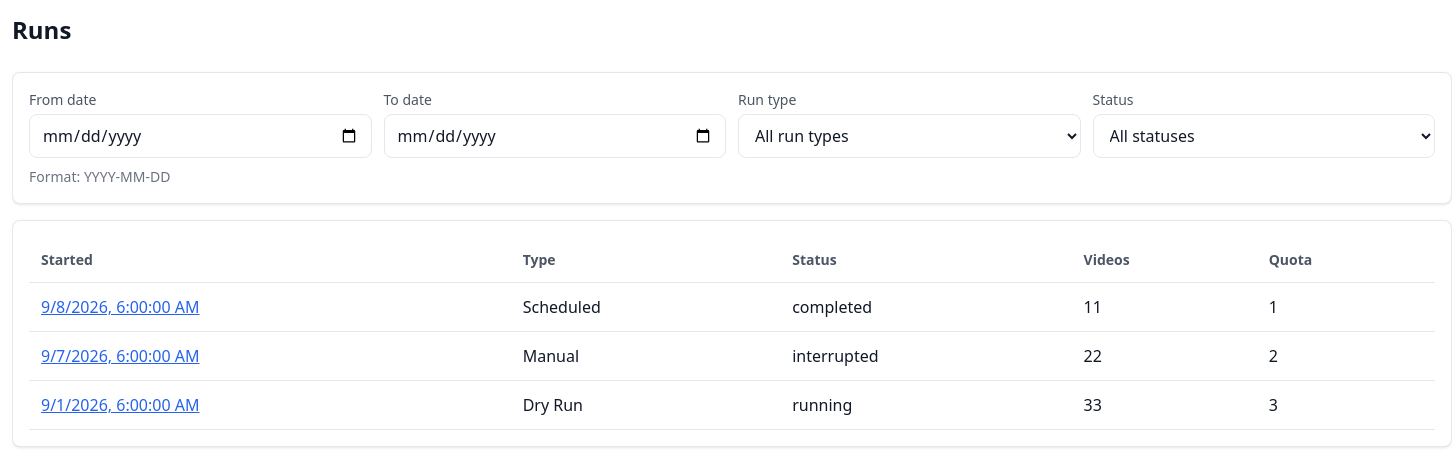
Test: RunsView › filters › filters runs by status
Expected: the table is shown, [29,237,1435,430]
Select "Running" in the dropdown labelled "Status" at (1264, 136), box [1092,114,1435,158]
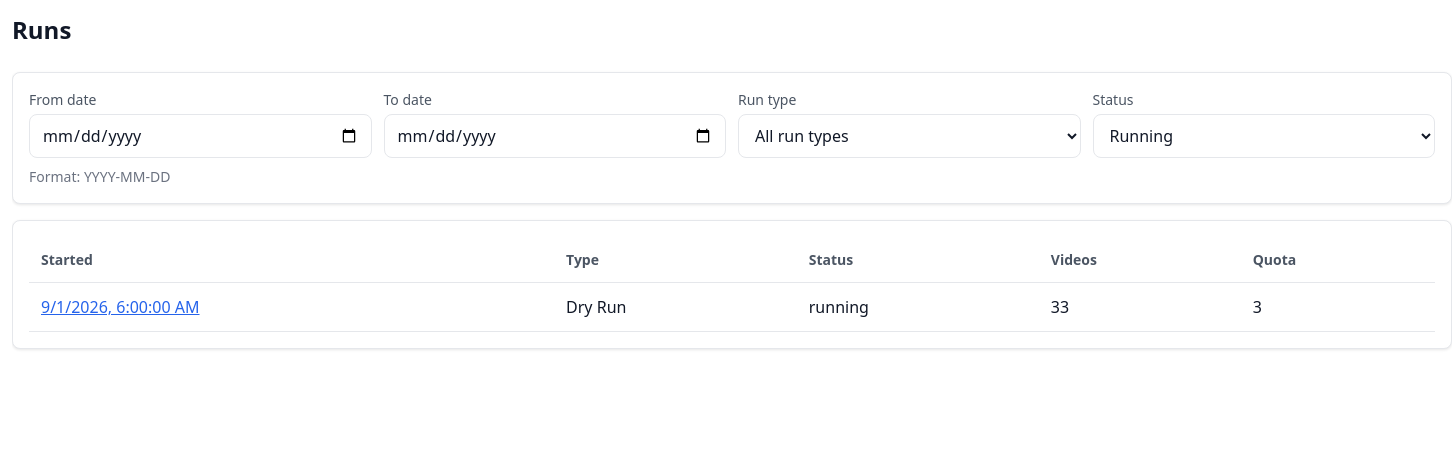
Expected: the text "33" is shown, [1039,282,1241,332]
Expected: the text "11" is gone
Expected: the text "22" is gone
